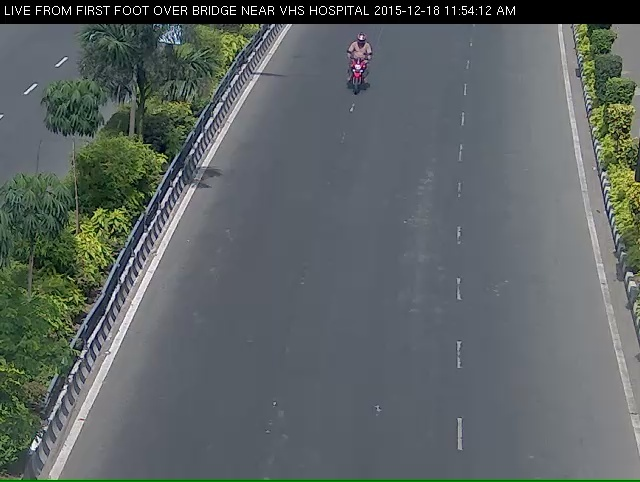Person: (334, 37, 380, 107)
